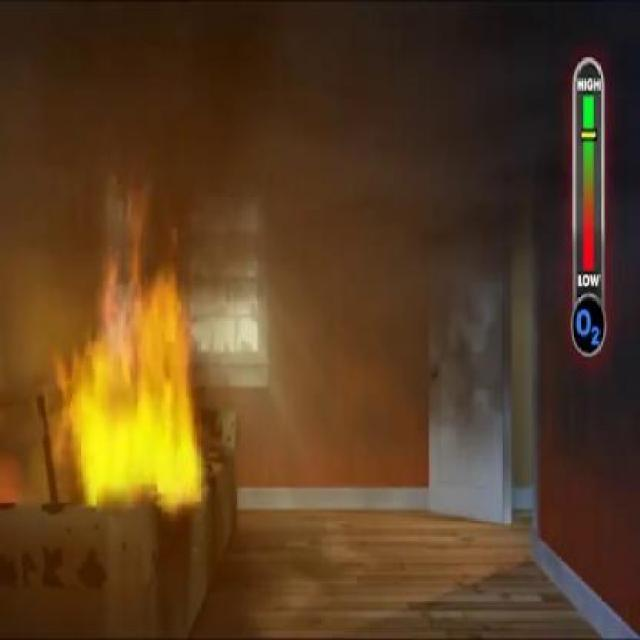fire: (67, 294, 230, 508)
smoke: (399, 12, 553, 396), (27, 17, 304, 215)
